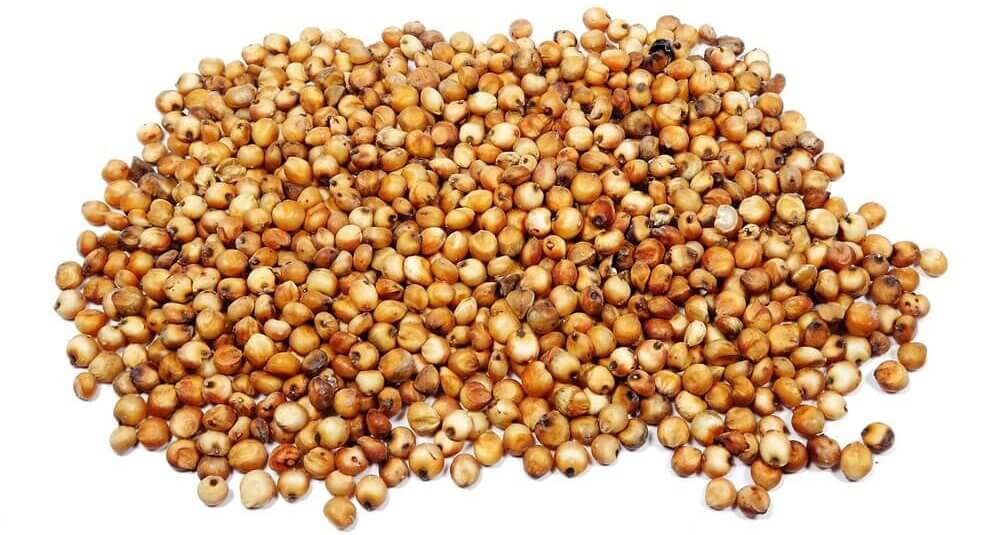seed: (35, 2, 949, 535)
